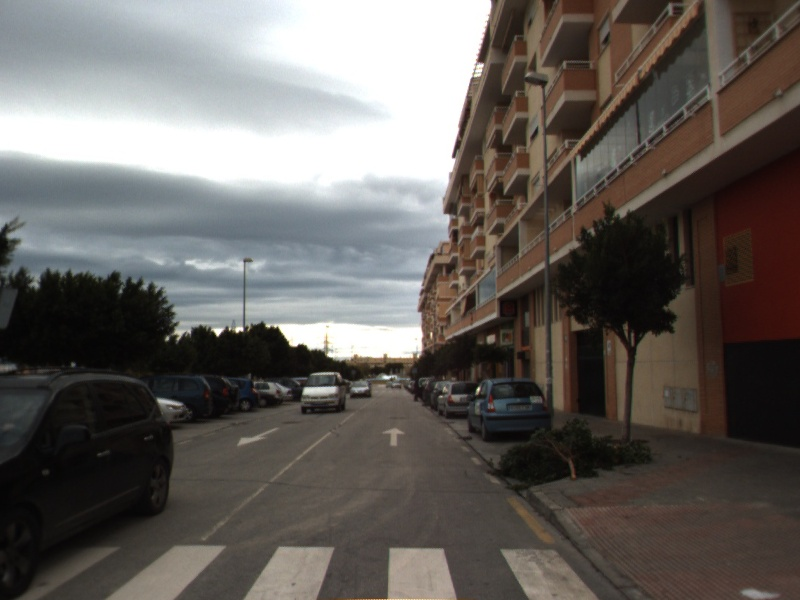STRAIGHT: (380, 425, 408, 448)
